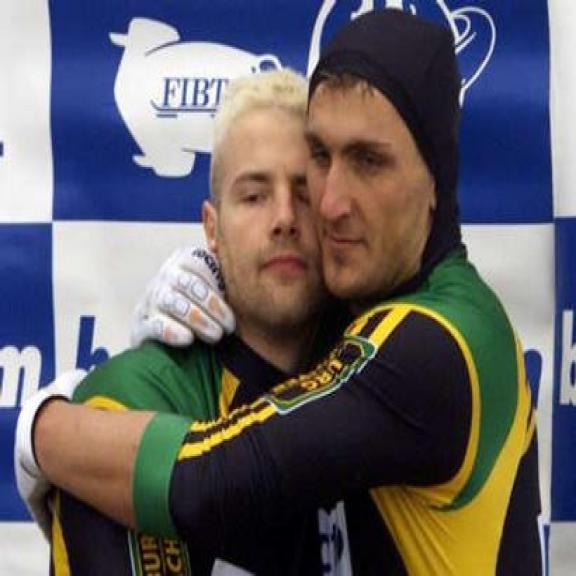face: (308, 70, 440, 306), (200, 101, 329, 324)
